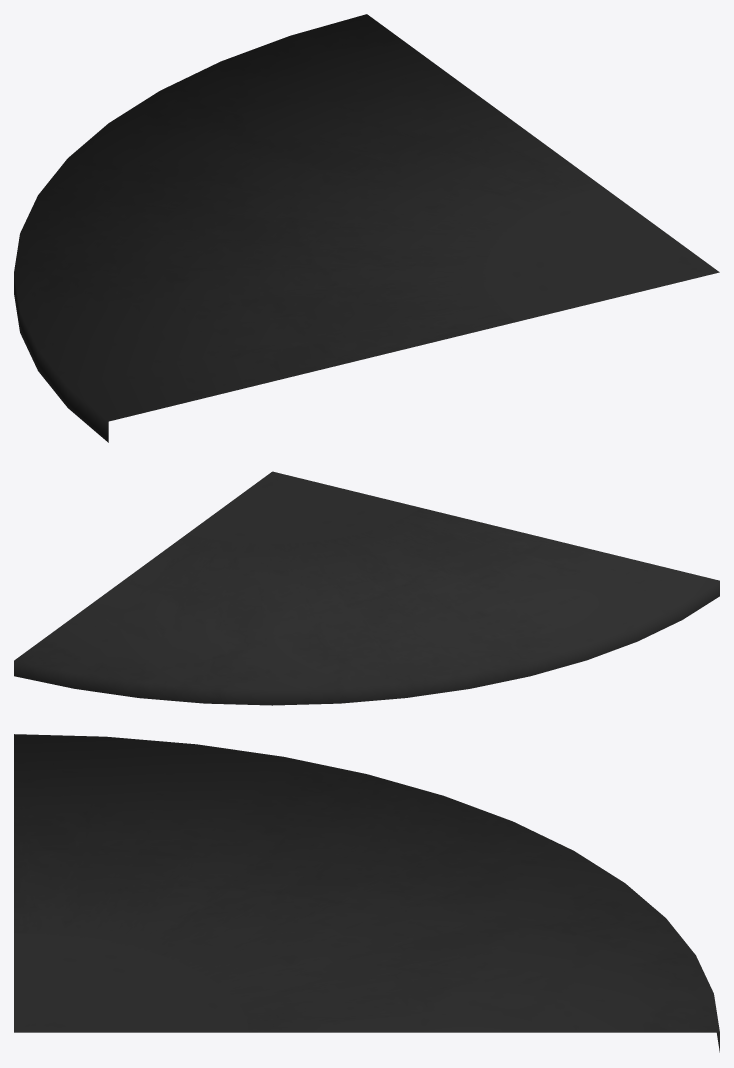
File: BottomSimple_Corner_Square_Outer_1.glb
The picture shows the model from 3 angles, top to bottom: view 1: azimuth 30°, elevation 25°; view 2: azimuth 150°, elevation 25°; view 3: azimuth 270°, elevation 25°; orthographic projection. The views are drawn at different scales.
Parts seen in each view (by area): view 1: BottomSimple_Corner_Square_Outer_1; view 2: BottomSimple_Corner_Square_Outer_1; view 3: BottomSimple_Corner_Square_Outer_1.
Part boxes in pixels (bbox=[...]): BottomSimple_Corner_Square_Outer_1: bbox=[14, 14, 719, 442]; BottomSimple_Corner_Square_Outer_1: bbox=[14, 471, 719, 705]; BottomSimple_Corner_Square_Outer_1: bbox=[14, 734, 719, 1052].
Size of the model in its own units: 0.6 by 0.02 by 0.6.
Materials: 1 (1 with a texture image).
